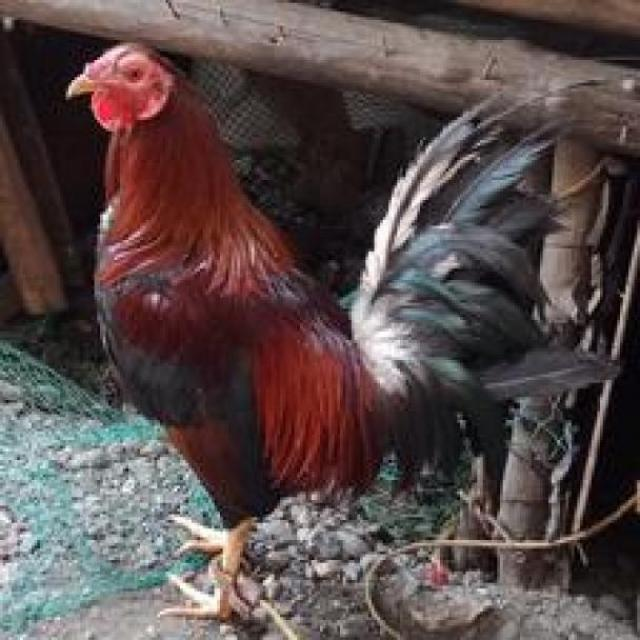Chicken: (43, 10, 607, 640)
